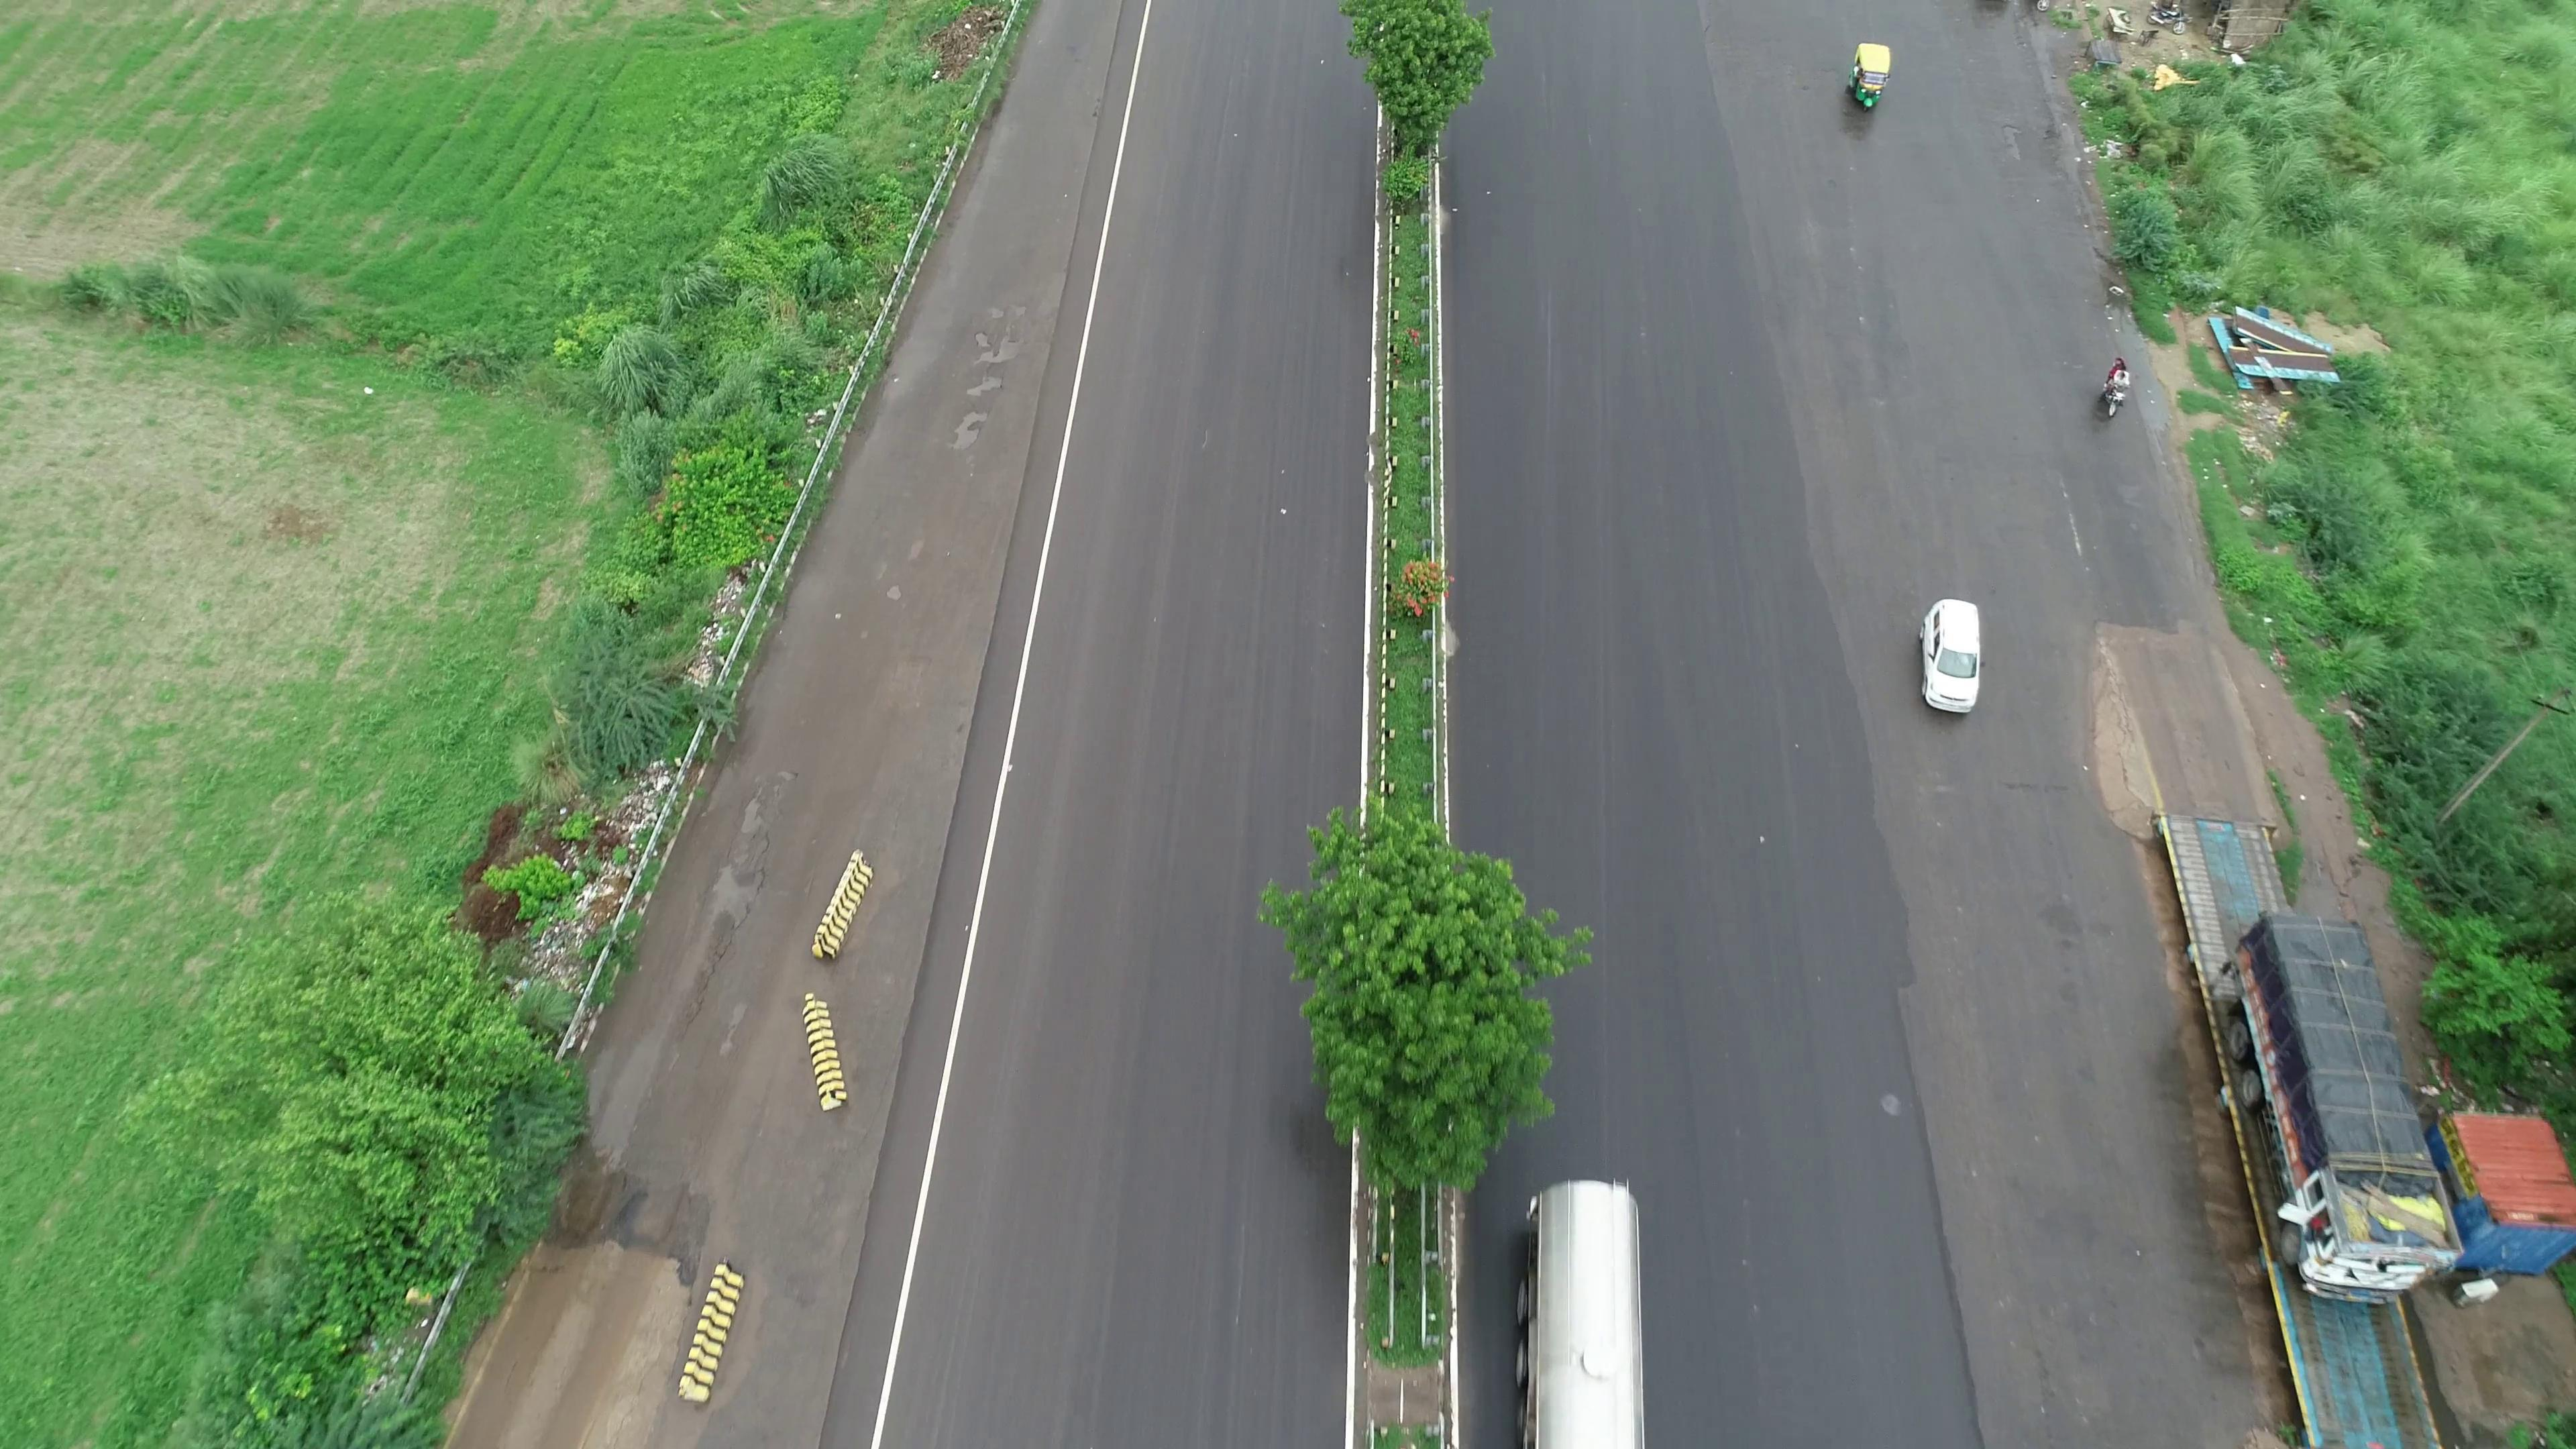Potholes: (922, 283, 1040, 453)
